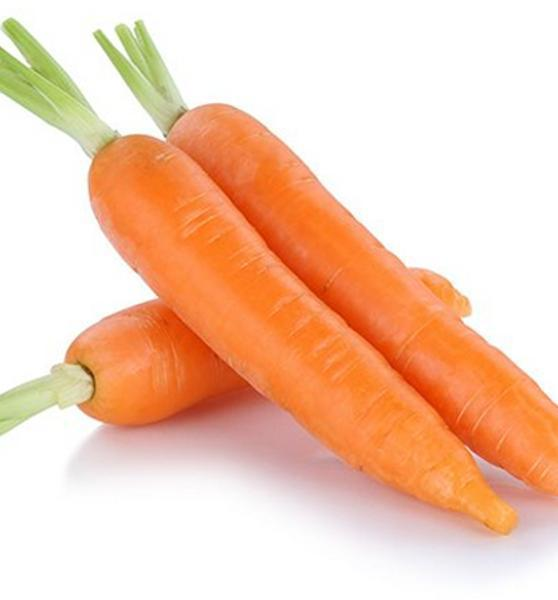carrot: (51, 108, 558, 521), (158, 96, 558, 526), (52, 129, 441, 448)
